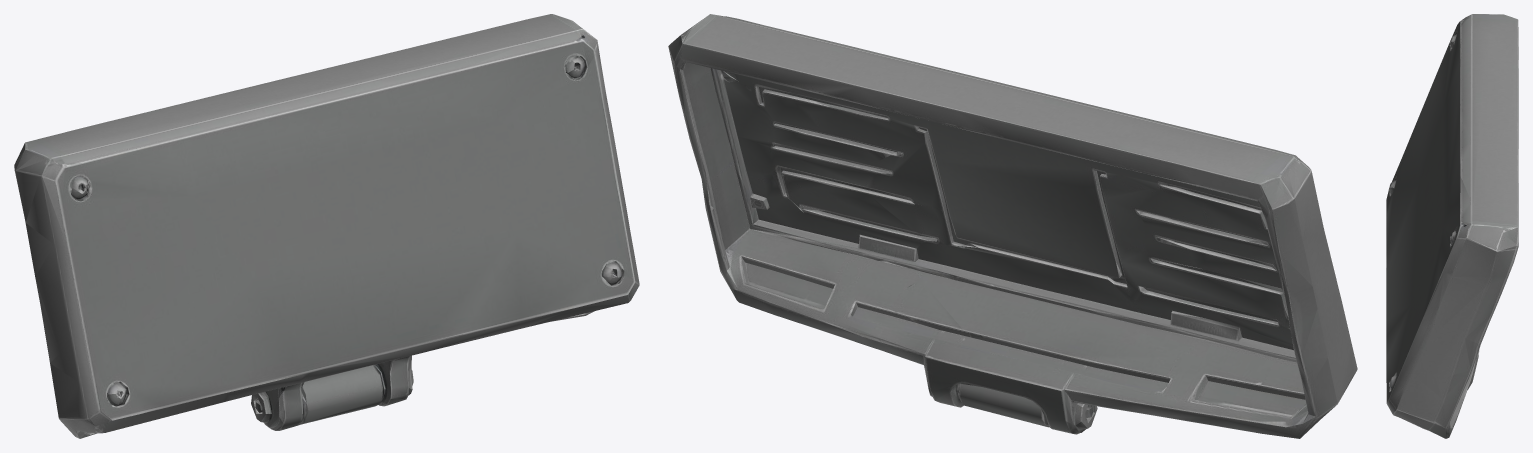
The model's file is shared_flak_tower_compact_option__radar_aperture.glb.
3 views of the same model, side by side, from view 1: azimuth 30°, elevation 25°; view 2: azimuth 150°, elevation 25°; view 3: azimuth 270°, elevation 25° (orthographic). The views are drawn at different scales.
Visible parts, largest first — view 1: mesh_node; view 2: mesh_node; view 3: mesh_node.
Part boxes in pixels (<box>): mesh_node: <box>14,14,639,438</box>; mesh_node: <box>668,14,1357,438</box>; mesh_node: <box>1386,14,1518,438</box>.
Bounding box in the file's own units: 1.4 × 0.7322 × 0.3475.
1 material, 1 textured.
